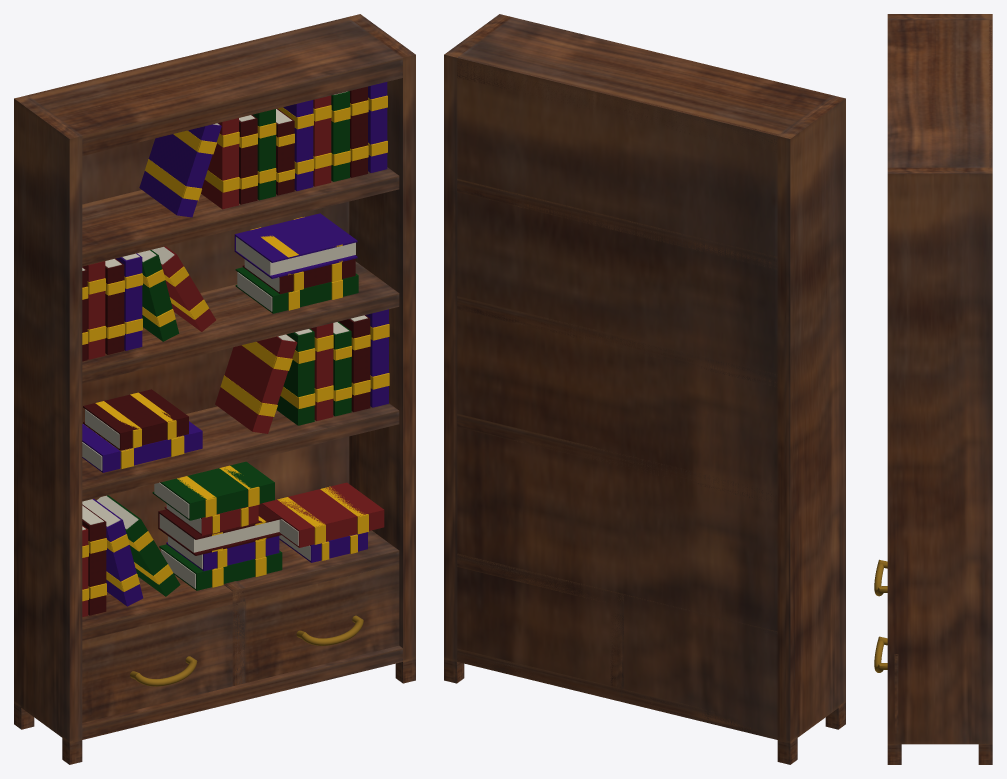
File: Buecherregal.fbx
3 renders of one model, left to right at view 1: azimuth 30°, elevation 25°; view 2: azimuth 150°, elevation 25°; view 3: azimuth 270°, elevation 25°, orthographic. The views are drawn at different scales.
Visible parts, largest first — view 1: Regal_1, Buecher_1; view 2: Regal_1; view 3: Regal_1.
Part boxes in pixels (x1=…): Regal_1: x1=14, y1=14, x2=415, y2=764; Buecher_1: x1=82, y1=82, x2=389, y2=616; Regal_1: x1=444, y1=14, x2=845, y2=764; Regal_1: x1=874, y1=14, x2=992, y2=764.
Size of the model in its own units: 108 by 186 by 33.83.
Materials: 2 (2 with a texture image).
